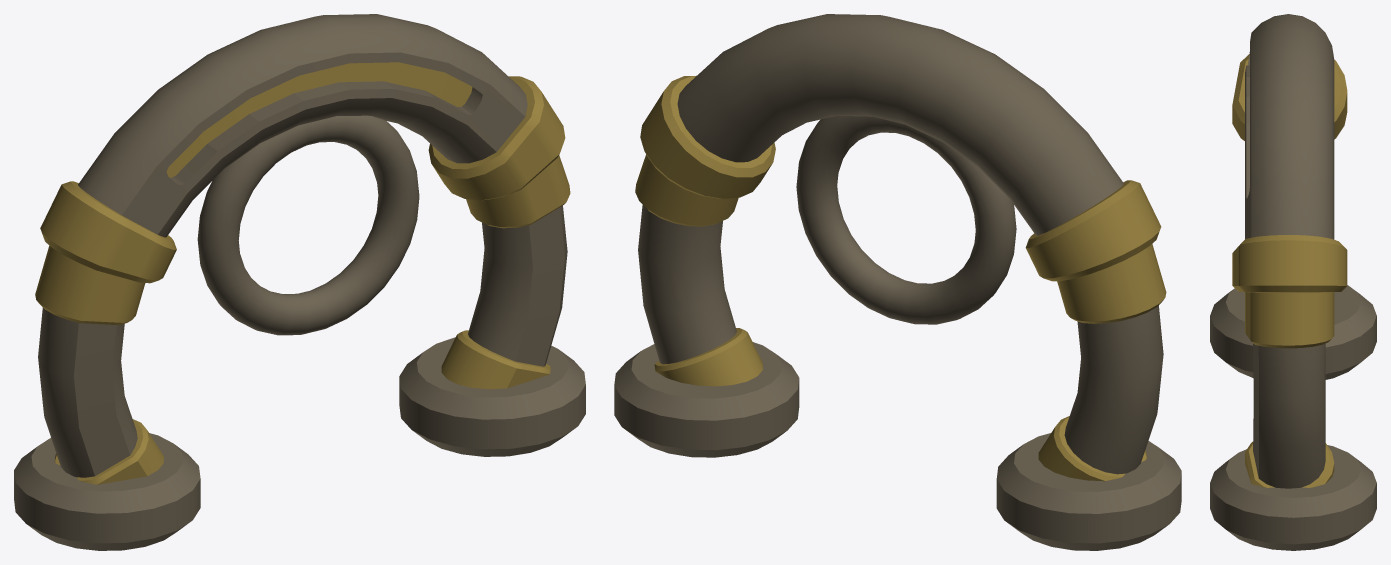
Rendered from SM_arch.fbx.
The picture shows the model from 3 angles, left to right: view 1: azimuth 30°, elevation 25°; view 2: azimuth 150°, elevation 25°; view 3: azimuth 270°, elevation 25°; orthographic projection. The views are drawn at different scales.
Parts seen in each view (by area): view 1: pasted__pTorus4; view 2: pasted__pTorus4; view 3: pasted__pTorus4.
Boxes of the visible parts, <box> form: pasted__pTorus4: <box>14,14,585,550</box>; pasted__pTorus4: <box>614,14,1181,550</box>; pasted__pTorus4: <box>1210,14,1376,550</box>.
Bounding box in the file's own units: 603 × 472 × 179.
